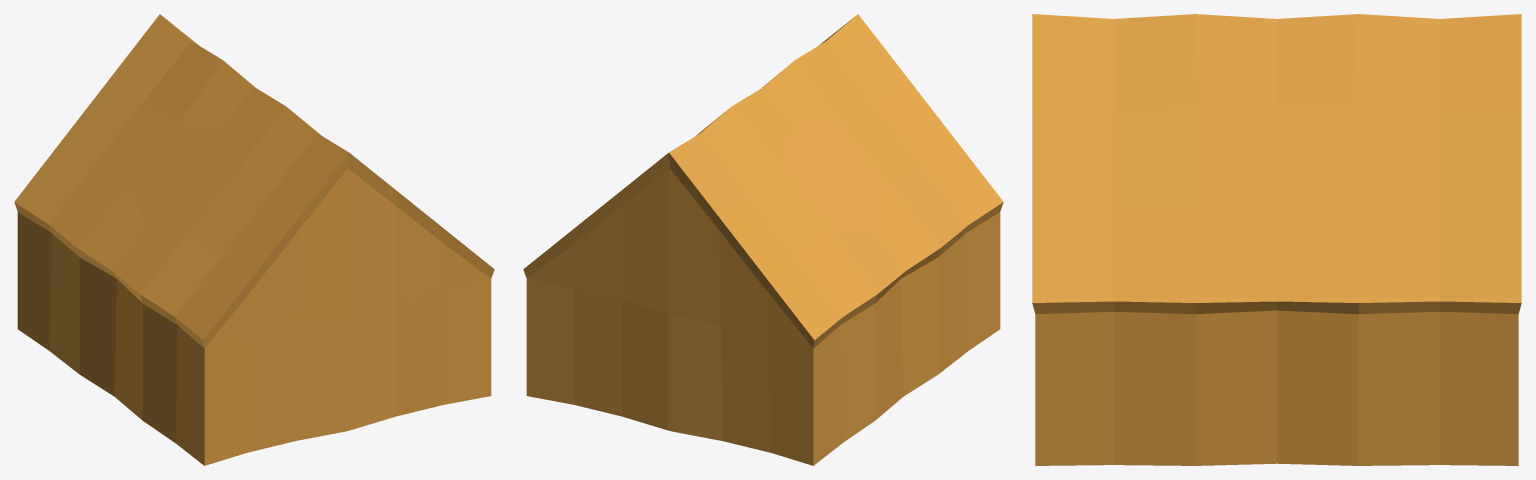
File: tent-war.fbx
The picture shows the model from 3 angles, left to right: view 1: azimuth 30°, elevation 25°; view 2: azimuth 150°, elevation 25°; view 3: azimuth 270°, elevation 25°; orthographic projection. The views are drawn at different scales.
Visible parts, largest first — view 1: tent-war; view 2: tent-war; view 3: tent-war.
Part boxes in pixels (x1=…): tent-war: x1=14, y1=14, x2=494, y2=465; tent-war: x1=523, y1=14, x2=1003, y2=465; tent-war: x1=1032, y1=14, x2=1521, y2=465.
Bounding box in the file's own units: 3 × 2.75 × 3.38.
